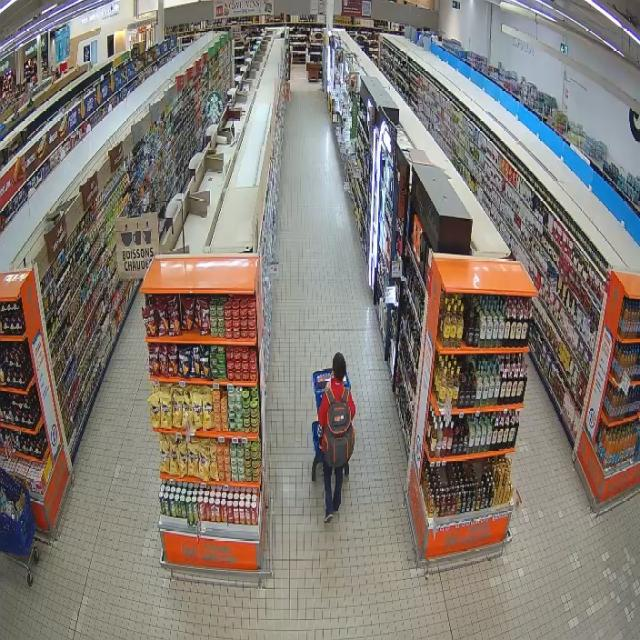bags: (321, 385, 354, 467)
person: (323, 459, 343, 522)
